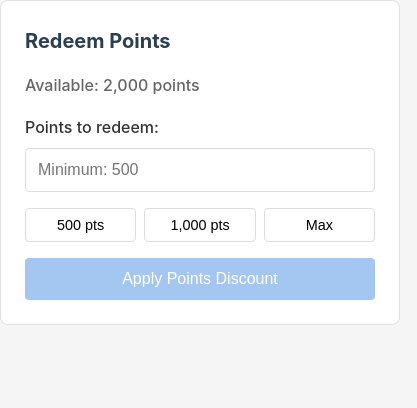
Test: PointRedemptionForm › should handle quick redeem buttons
Click the button "500 pts" at (81, 225), box [25,208,136,242]
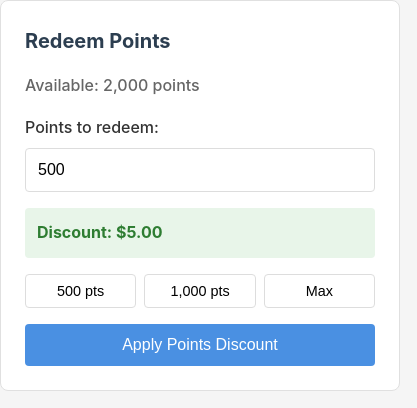
Result: the number field labelled "Points to redeem:" holds "500" at [25,148,375,192]
